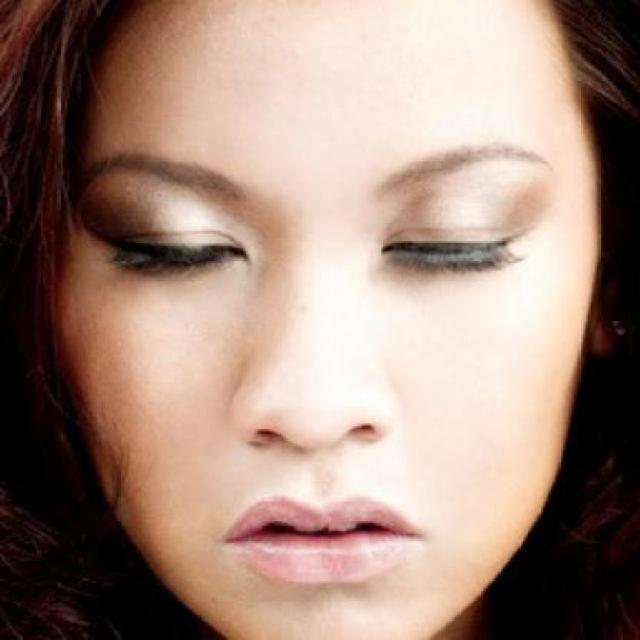drowsy: (108, 224, 247, 284), (381, 226, 521, 280)
